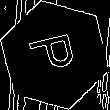P_E: (25, 31, 85, 79)
